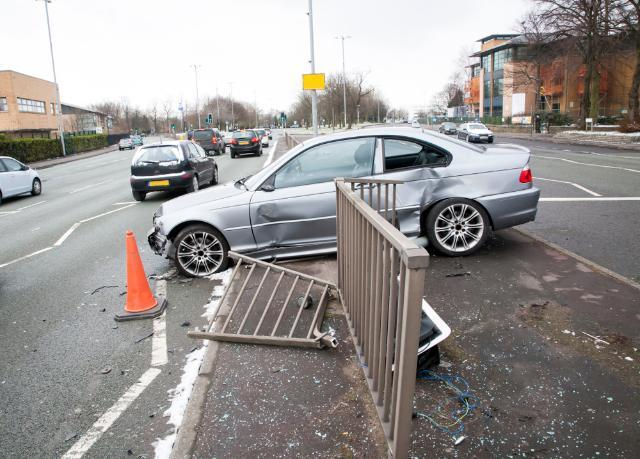dent: (400, 169, 460, 236), (254, 203, 307, 247)
no part: (147, 207, 176, 275)
